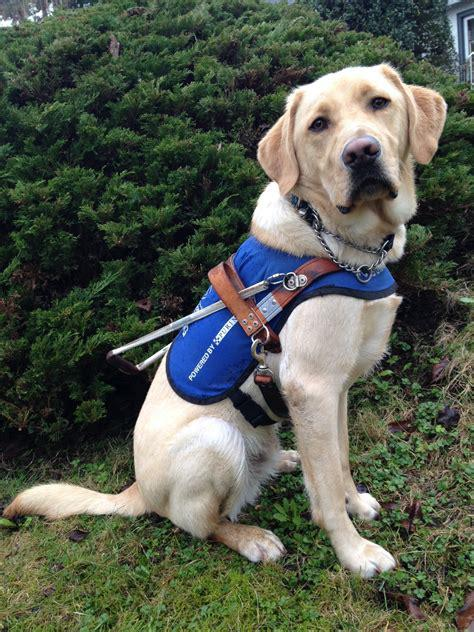dog: (5, 64, 445, 574)
